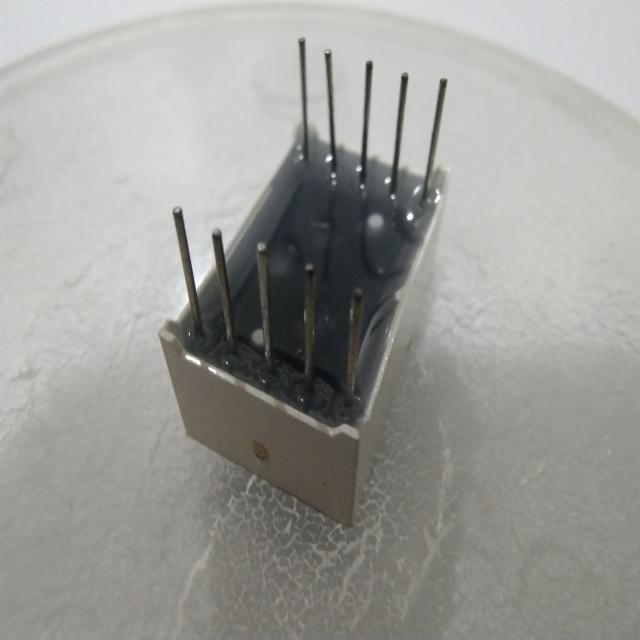7_segments: (149, 21, 469, 540)
